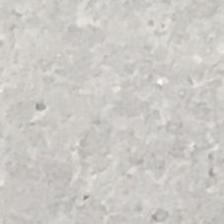Non_Crack: (17, 22, 224, 221)
